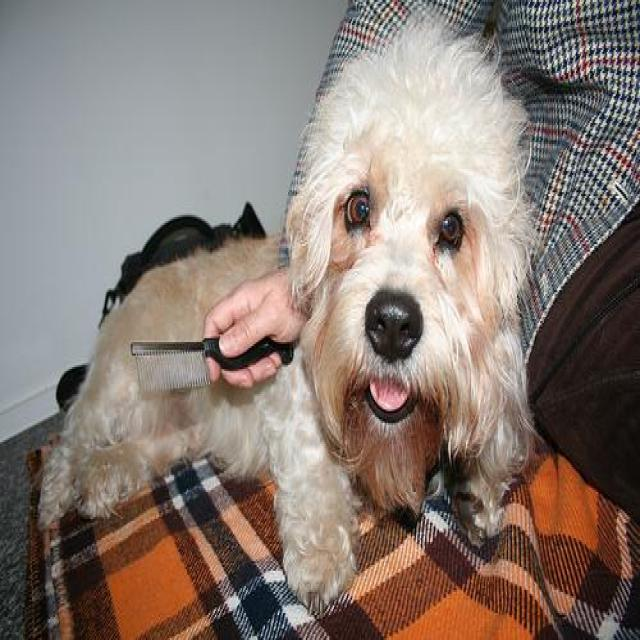dandie_dinmont: (37, 15, 539, 617)
